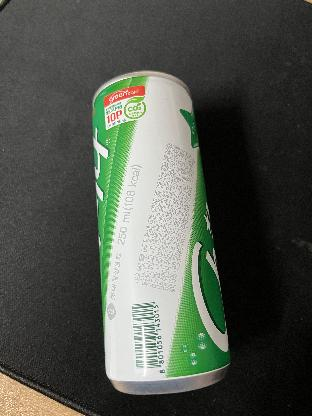Can: (90, 73, 228, 393)
